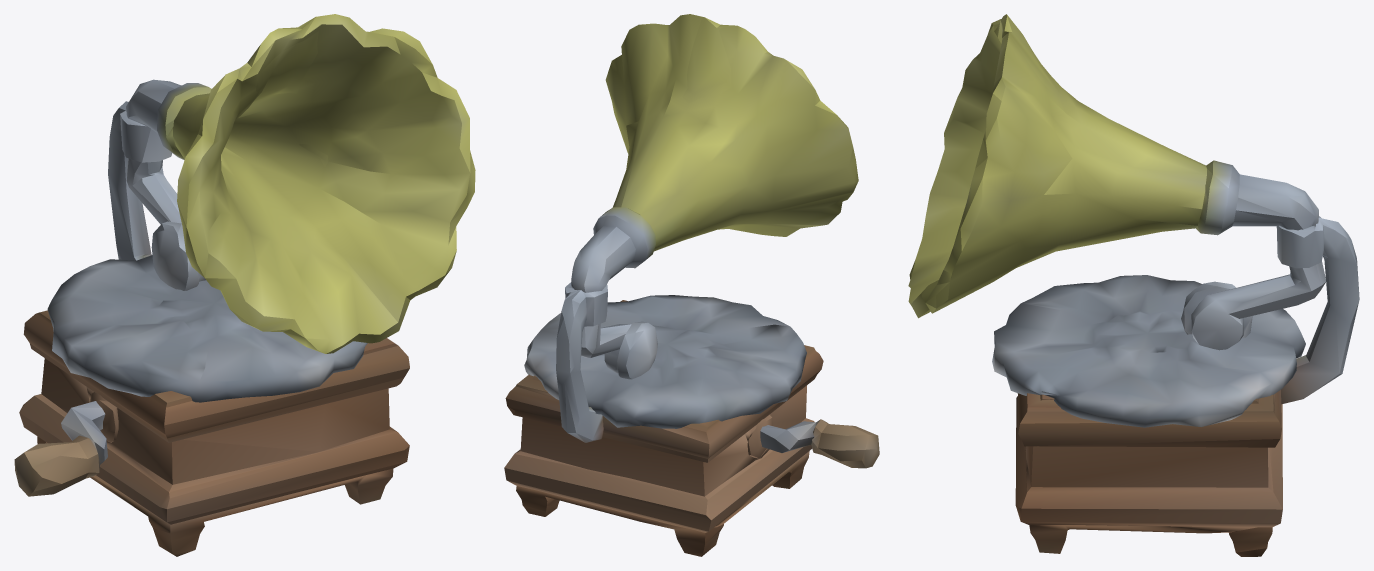
The model's file is Gramophone01.fbx.
3 renders of one model, left to right at view 1: azimuth 30°, elevation 25°; view 2: azimuth 150°, elevation 25°; view 3: azimuth 270°, elevation 25°, orthographic. The views are drawn at different scales.
Parts seen in each view (by area): view 1: GramophoneBody01, GramophoneRecord01, GramophoneHandle01, GramophoneNeedle01; view 2: GramophoneBody01, GramophoneRecord01, GramophoneHandle01, GramophoneNeedle01; view 3: GramophoneBody01, GramophoneRecord01, GramophoneNeedle01.
Part boxes in pixels (<box>): GramophoneBody01: <box>19,14,475,556</box>; GramophoneRecord01: <box>47,255,367,402</box>; GramophoneHandle01: <box>14,401,107,496</box>; GramophoneNeedle01: <box>126,158,205,290</box>; GramophoneBody01: <box>504,14,858,556</box>; GramophoneRecord01: <box>524,295,806,428</box>; GramophoneHandle01: <box>760,419,879,468</box>; GramophoneNeedle01: <box>581,321,657,379</box>; GramophoneBody01: <box>908,14,1359,556</box>; GramophoneRecord01: <box>992,275,1305,427</box>; GramophoneNeedle01: <box>1181,261,1326,350</box>.
Bounding box in the file's own units: 81.11 × 105 × 87.01.
